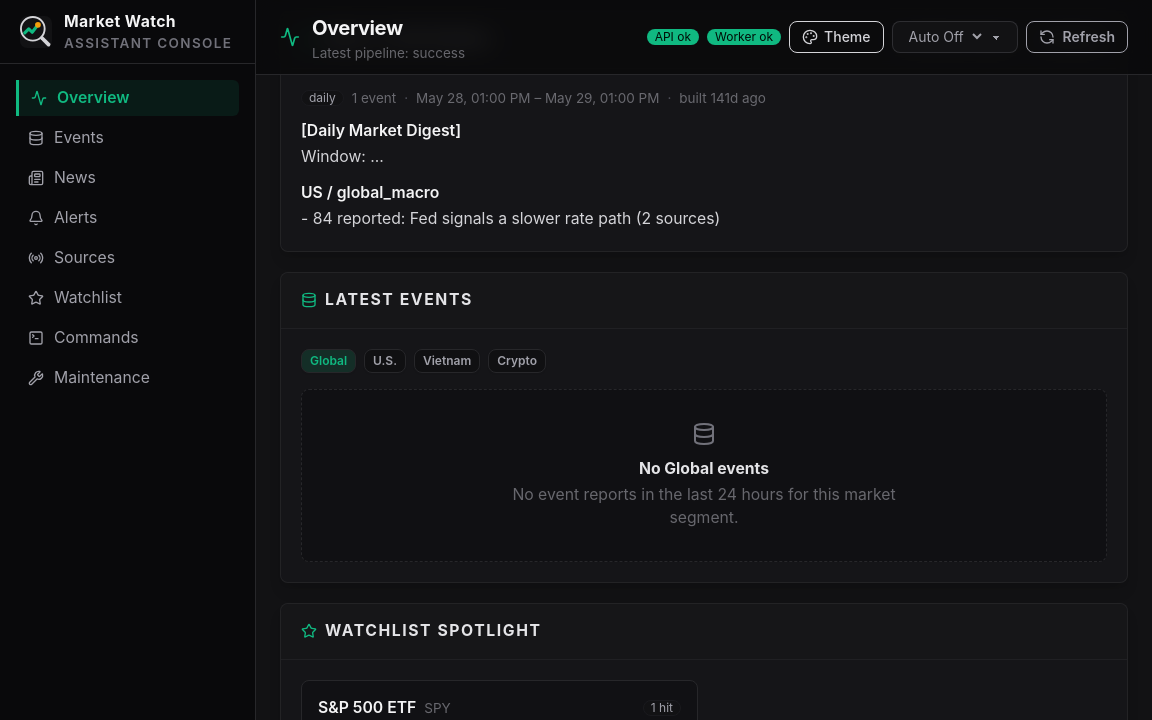
Test: App data states › filters overview top events by market segment
(page scrolled)
Click the button "Crypto". click: (517, 360)
box: [488,348,546,372]
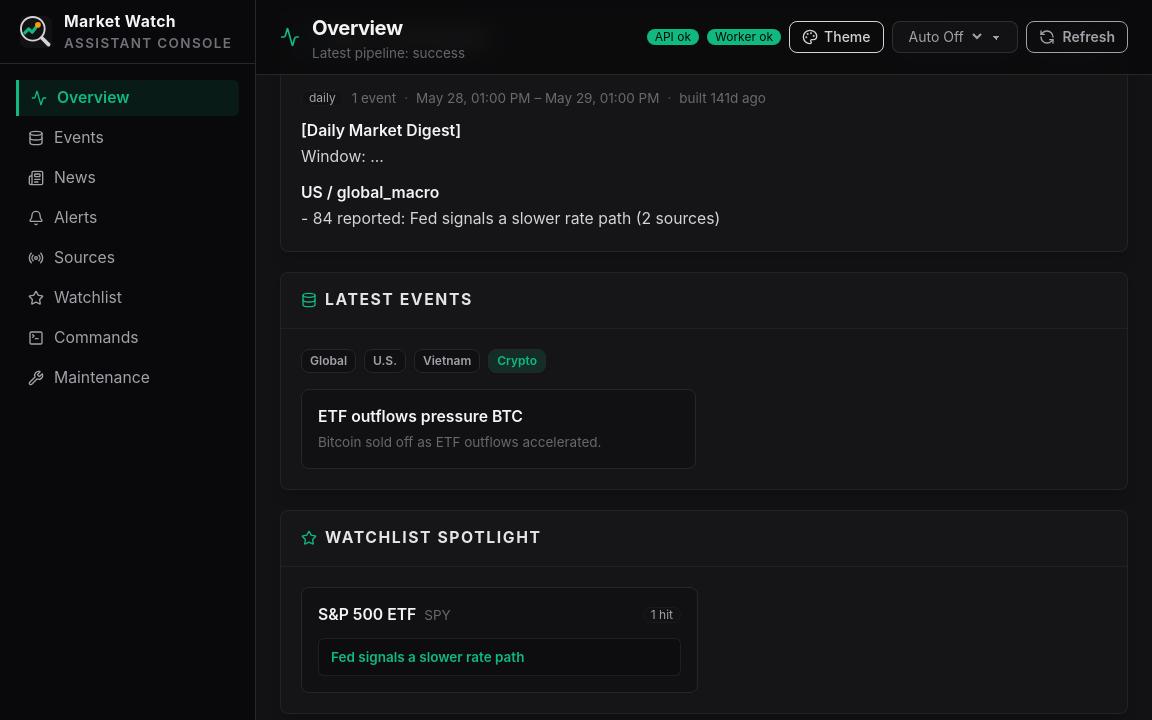
Check: the text "VN banks edge higher after SBV commentary" is not shown
Check: the text "ETF outflows pressure BTC" is shown, box [318,406,523,426]
Click the button "Vietnam". click: (447, 360)
box: [414,348,480,372]
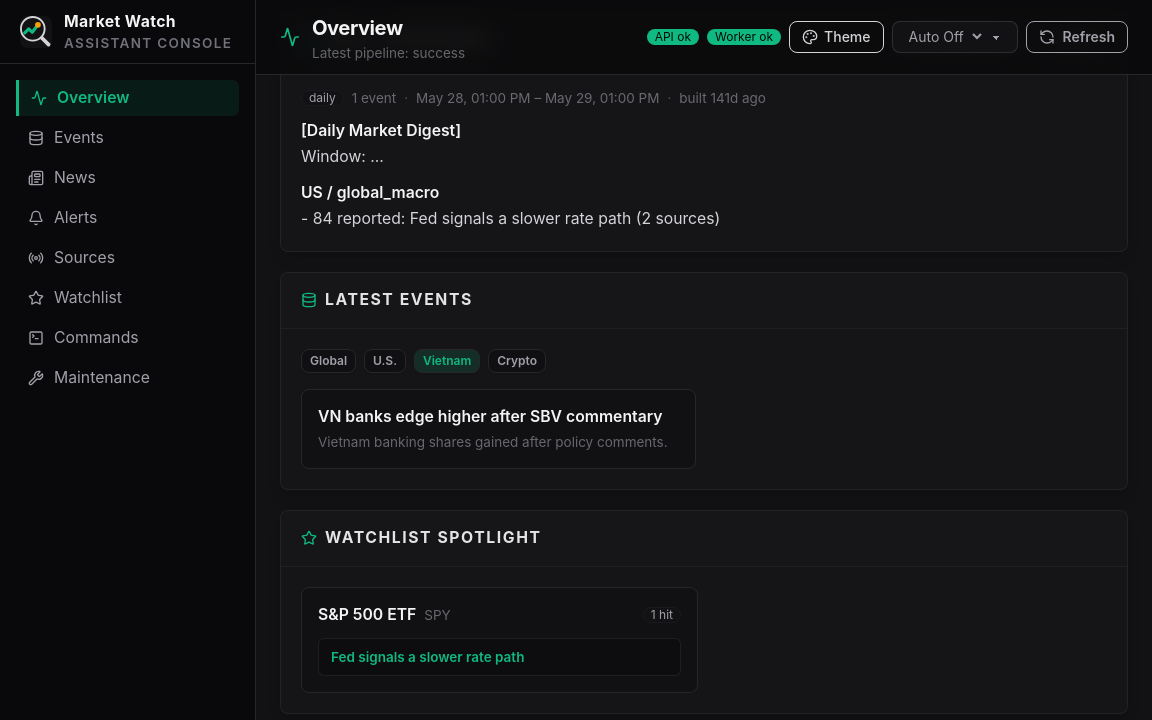
Check: the text "VN banks edge higher after SBV commentary" is shown, box [318,406,679,428]
Check: the button "ETF outflows pressure BTC" is gone
